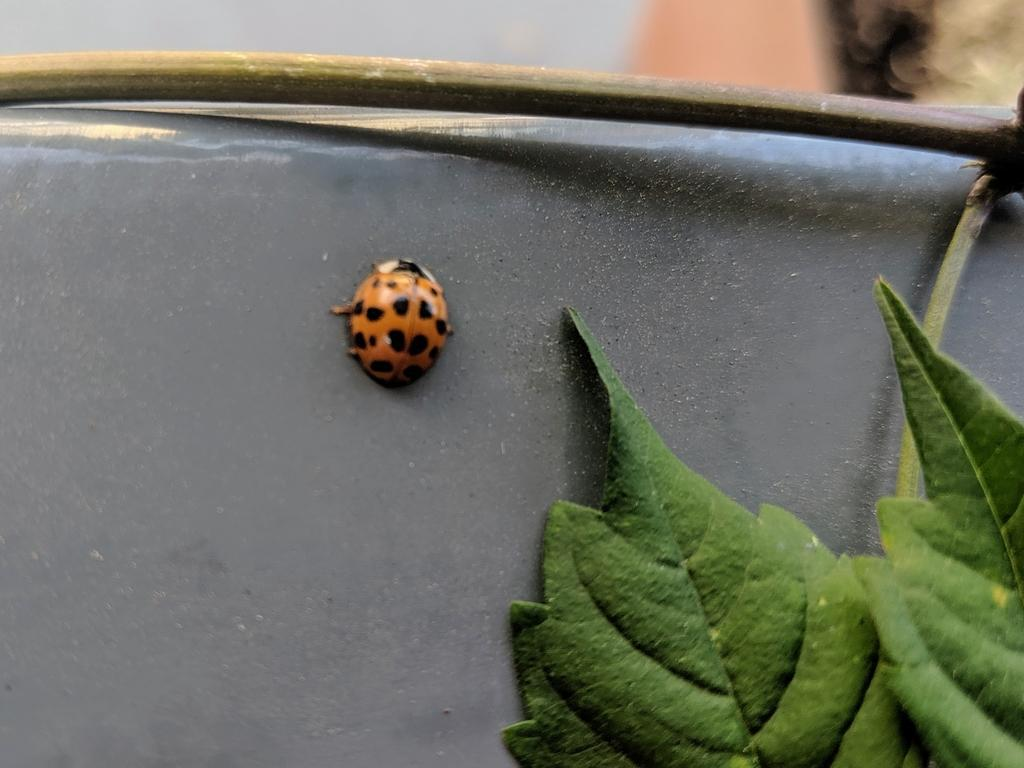ladybug: (329, 255, 461, 393)
